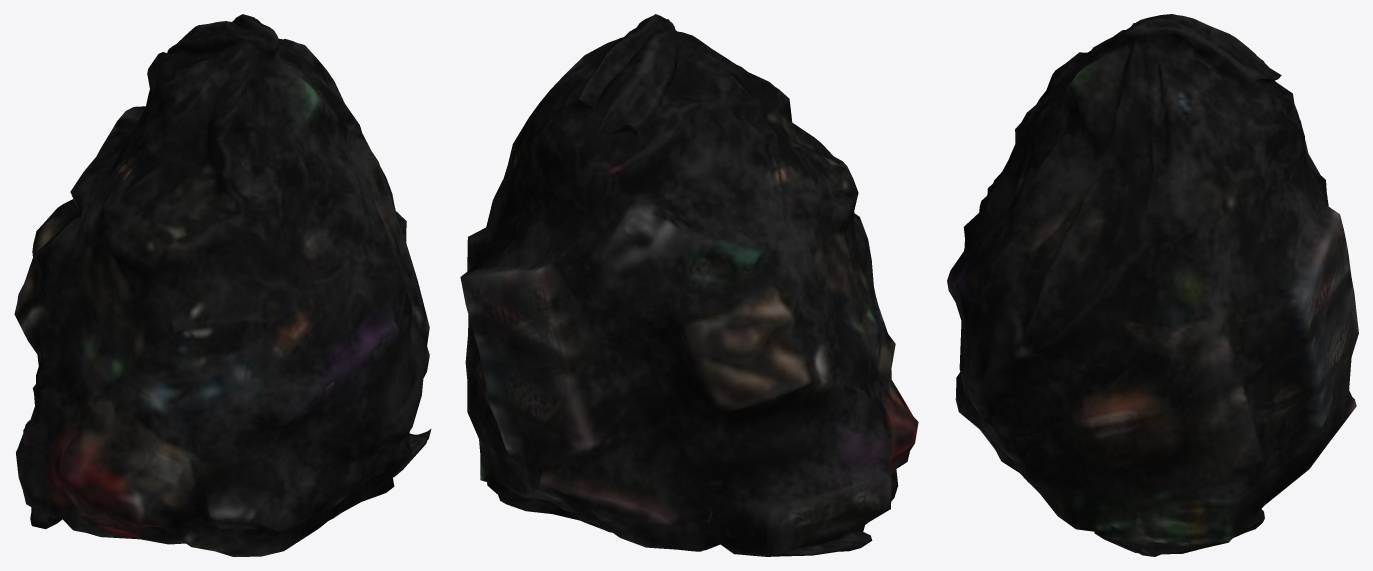
Rendered from trash_bag.glb.
3 views of the same model, side by side, from view 1: azimuth 30°, elevation 25°; view 2: azimuth 150°, elevation 25°; view 3: azimuth 270°, elevation 25° (orthographic). The views are drawn at different scales.
Visible parts, largest first — view 1: trashbag; view 2: trashbag; view 3: trashbag.
Boxes of the visible parts, <box> form: trashbag: <box>14,14,431,556</box>; trashbag: <box>460,14,918,556</box>; trashbag: <box>947,14,1358,556</box>.
Bounding box in the file's own units: 0.5281 × 0.575 × 0.4629.
Materials: 1 (1 with a texture image).
